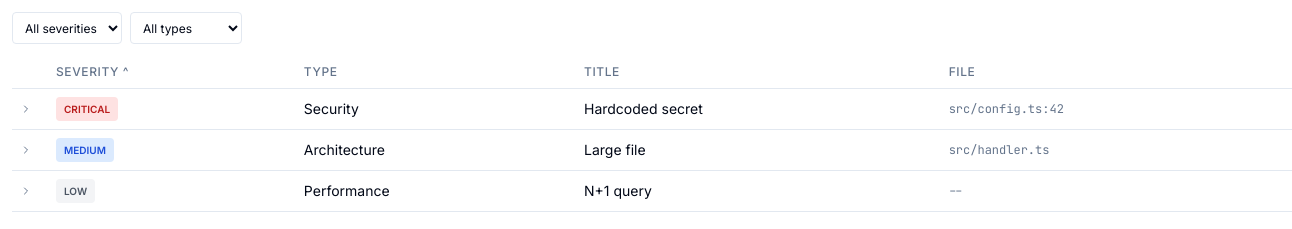
FindingsTable › filters by severity
This screenshot has width=1292, height=229.
Select "critical" in the 1st dropdown at (67, 28), box [12,12,122,44]
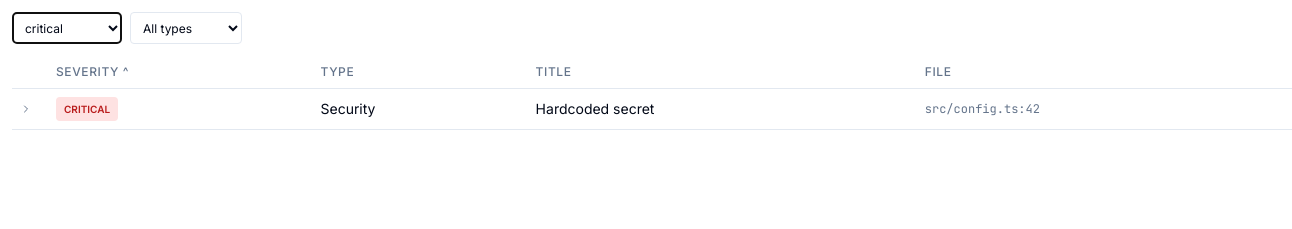
Expected: the text "Hardcoded secret" is shown, [524,88,913,130]
Result: the text "Large file" is gone
